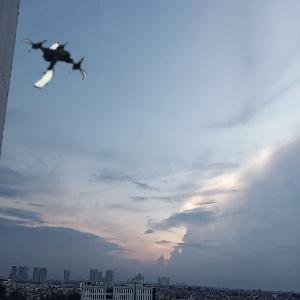drone: (18, 26, 90, 98)
